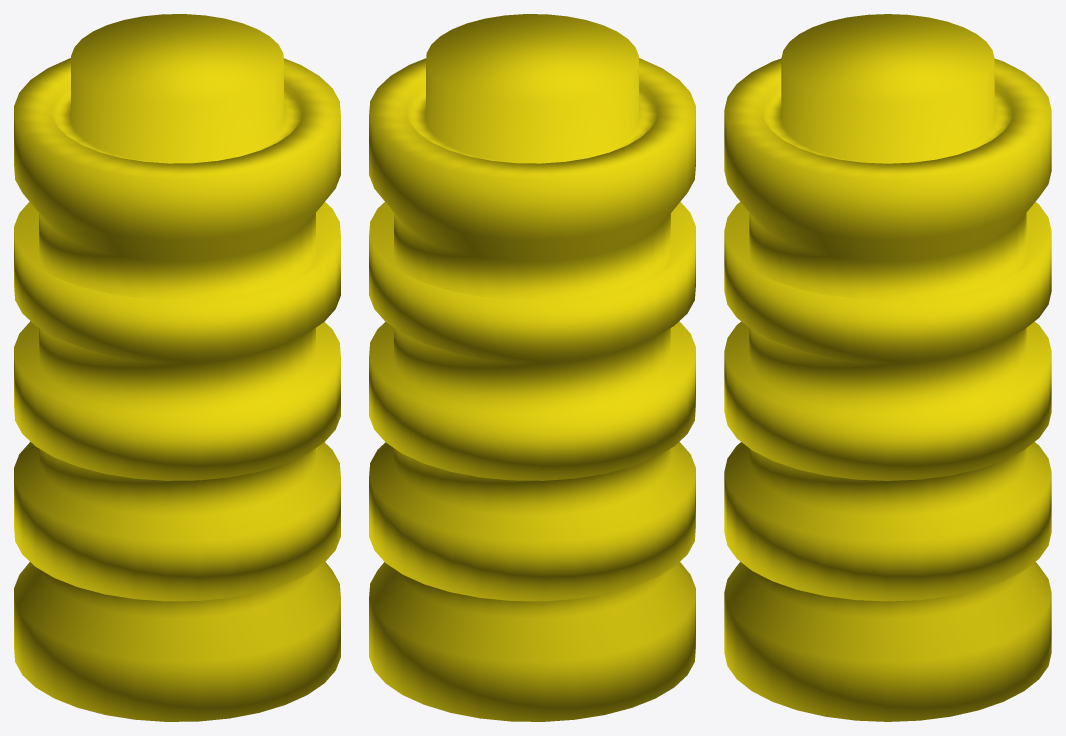
The model's file is Battery.fbx.
The picture shows the model from 3 angles, left to right: view 1: azimuth 30°, elevation 25°; view 2: azimuth 150°, elevation 25°; view 3: azimuth 270°, elevation 25°; orthographic projection.
Visible parts, largest first — view 1: Cylinder; view 2: Cylinder; view 3: Cylinder.
Boxes of the visible parts, left/top/right/bottom form: Cylinder: left=14, top=14, right=340, bottom=721; Cylinder: left=369, top=14, right=695, bottom=721; Cylinder: left=724, top=14, right=1051, bottom=721.
Bounding box in the file's own units: 200 × 400 × 200.
